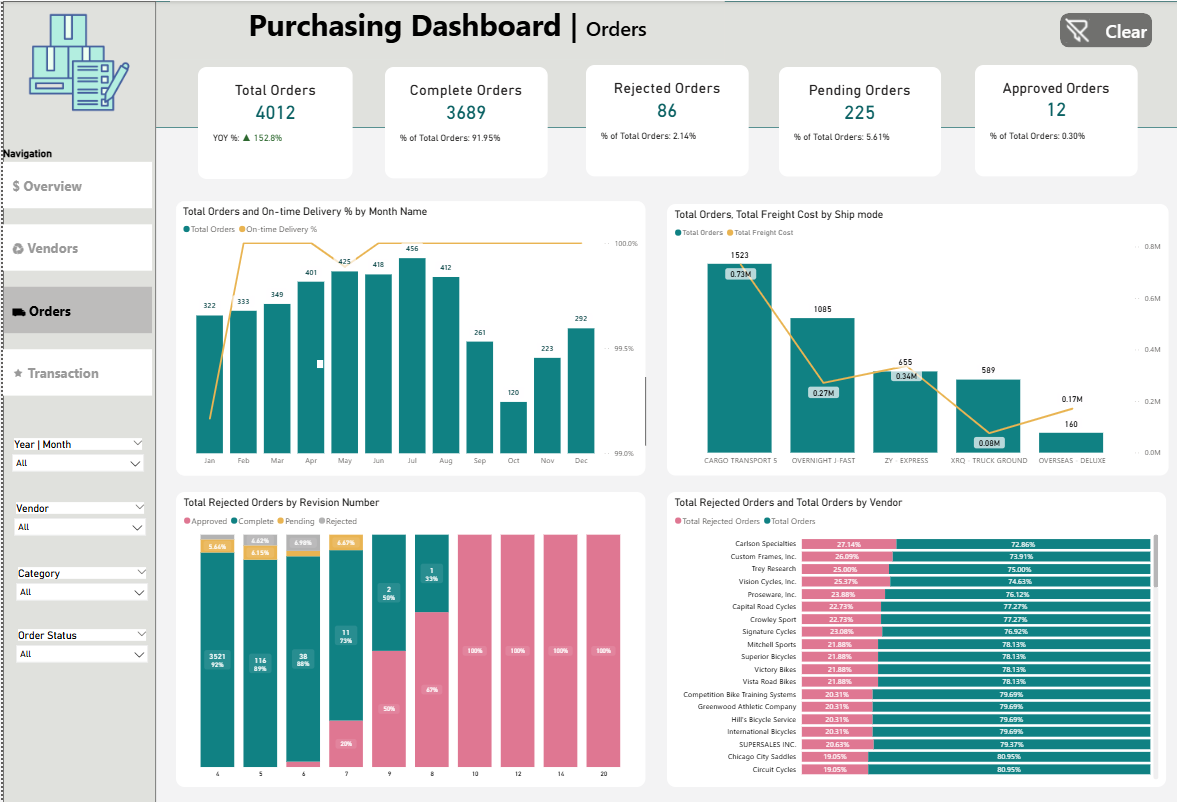

The dashboard page shown, as its layout file describes it:
{"tool":"powerbi","page":{"name":"⛟  Orders","canvas":[1900,1300],"ordinal":2},"visuals":[{"type":"actionButton","box":[1713,34.8,145.7,58.7],"z":0},{"type":"cardVisual","fields":{"Data":["Calculation.Delivered Orders"]},"box":[617.3,106.4,262.9,179.8],"z":1000,"group":"g2"},{"type":"pageNavigator","title":"Navigation","box":[0,236.6,241.5,405.9],"z":1000,"group":"g3"},{"type":"hundredPercentStackedBarChart","title":"Total Rejected Orders and Total Orders by Vendor","fields":{"Category":["Dim_Vendor.Vendor Name"],"Y":["Calculation.Total Rejected Orders","Calculation.Total Orders"]},"box":[1073.8,793.4,806.6,477],"z":1000},{"type":"cardVisual","fields":{"Data":["Calculation.Approved Orders"]},"box":[1570.5,103.3,262.9,179.8],"z":2000,"group":"g2"},{"type":"textbox","box":[342.6,608.2,696.7,111.5],"z":2000},{"type":"slicer","fields":{"Values":["Date.Date.Variation.Date Hierarchy.Year","Date.Date.Variation.Date Hierarchy.Quarter","Date.Date.Variation.Date Hierarchy.Month","Date.Date.Variation.Date Hierarchy.Day"]},"box":[5.1,701.1,232.9,92.5],"z":2000,"group":"g3"},{"type":"image","box":[10.8,0,224.4,176.4],"z":3000},{"type":"image","box":[10.8,11.5,224.4,176.4],"z":3000,"group":"g3"},{"type":"cardVisual","fields":{"Data":["Calculation.Pending Orders"]},"box":[1254.1,107.1,261.9,177.4],"z":3000,"group":"g2"},{"type":"cardVisual","fields":{"Data":["Calculation.Rejected Orders"]},"box":[942.7,103.3,262.9,179.8],"z":4000,"group":"g2"},{"type":"lineClusteredColumnComboChart","fields":{"Category":["Date.Month Name"],"Y":["Calculation.Total Orders"],"Y2":["Calculation.On-time Delivery %"]},"box":[280.3,323,759,444.3],"z":4000},{"type":"slicer","fields":{"Values":["Dim_Vendor.Vendor Name"]},"box":[7.3,806.2,232.9,77.1],"z":4000,"group":"g3"},{"type":"cardVisual","fields":{"Data":["Calculation.Total Orders"]},"box":[314.8,107.1,250,181],"z":4500,"group":"g2"},{"type":"lineStackedColumnComboChart","title":"Total Orders, Total Freight Cost by Ship mode","fields":{"Y":["Calculation.Total Orders"],"Category":["Dim_ShipMethod.Name"],"Y2":["Calculation.Total Freight Cost"]},"box":[1073.8,327.9,811.5,439.3],"z":5000},{"type":"slicer","fields":{"Values":["Fact_PurchaseOrderHeader.Status Description"]},"box":[12,1011.2,232.9,95.9],"z":5000,"group":"g3"},{"type":"hundredPercentStackedColumnChart","title":"Total Rejected Orders by Revision Number","fields":{"Series":["Fact_PurchaseOrderHeader.Status Description"],"Category":["Fact_PurchaseOrderHeader.RevisionNumber"],"Y":["Calculation.Total Orders"]},"box":[280.3,793.4,759,477],"z":6000},{"type":"slicer","fields":{"Values":["Dim_Product.Category"]},"box":[10.8,910.7,232.9,92.5],"z":6000,"group":"g3"},{"type":"group","id":"g1","title":"Group 2","box":[507.2,580,6.1,13.3],"z":7000},{"type":"shape","box":[0,0,1900,204.9],"z":8000},{"type":"group","id":"g2","title":"Group 1","box":[314.8,103.3,1516.4,185.2],"z":9000},{"type":"shape","box":[0,0,247.5,1482],"z":10000},{"type":"cardVisual","fields":{"Data":["Calculation.Avg Delivery Days"]},"box":[507.2,580,6.1,13.3],"z":10000,"group":"g1"},{"type":"group","id":"g3","title":"Group 4","box":[0,11.5,244.3,1095.1],"z":11000},{"type":"textbox","box":[269.2,0,897.4,94.9],"z":12000},{"type":"actionButton","box":[1709.8,19.7,149.2,55.7],"z":13000}]}

Visuals, with their boxes on the page's 1900x1300 design canvas (x1, y1, x2, y2). These are canvas units, not pixel positions in the 1177x802 screenshot, which may show the page scaled, cropped or inside an application window:
actionButton: left=1713, top=35, right=1859, bottom=94
cardVisual - Calculation.Delivered Orders: left=617, top=106, right=880, bottom=286
"Navigation" pageNavigator: left=0, top=237, right=242, bottom=642
"Total Rejected Orders and Total Orders by Vendor" hundredPercentStackedBarChart: left=1074, top=793, right=1880, bottom=1270
cardVisual - Calculation.Approved Orders: left=1570, top=103, right=1833, bottom=283
textbox: left=343, top=608, right=1039, bottom=720
slicer - Date.Date.Variation.Date Hierarchy.Year x Date.Date.Variation.Date Hierarchy.Quarter: left=5, top=701, right=238, bottom=794
image: left=11, top=0, right=235, bottom=176
image: left=11, top=12, right=235, bottom=188
cardVisual - Calculation.Pending Orders: left=1254, top=107, right=1516, bottom=284
cardVisual - Calculation.Rejected Orders: left=943, top=103, right=1206, bottom=283
lineClusteredColumnComboChart - Date.Month Name x Calculation.Total Orders: left=280, top=323, right=1039, bottom=767
slicer - Dim_Vendor.Vendor Name: left=7, top=806, right=240, bottom=883
cardVisual - Calculation.Total Orders: left=315, top=107, right=565, bottom=288
"Total Orders, Total Freight Cost by Ship mode" lineStackedColumnComboChart: left=1074, top=328, right=1885, bottom=767
slicer - Fact_PurchaseOrderHeader.Status Description: left=12, top=1011, right=245, bottom=1107
"Total Rejected Orders by Revision Number" hundredPercentStackedColumnChart: left=280, top=793, right=1039, bottom=1270
slicer - Dim_Product.Category: left=11, top=911, right=244, bottom=1003
"Group 2" group: left=507, top=580, right=513, bottom=593
shape: left=0, top=0, right=1900, bottom=205
"Group 1" group: left=315, top=103, right=1831, bottom=288
shape: left=0, top=0, right=248, bottom=1482
cardVisual - Calculation.Avg Delivery Days: left=507, top=580, right=513, bottom=593
"Group 4" group: left=0, top=12, right=244, bottom=1107
textbox: left=269, top=0, right=1167, bottom=95
actionButton: left=1710, top=20, right=1859, bottom=75
